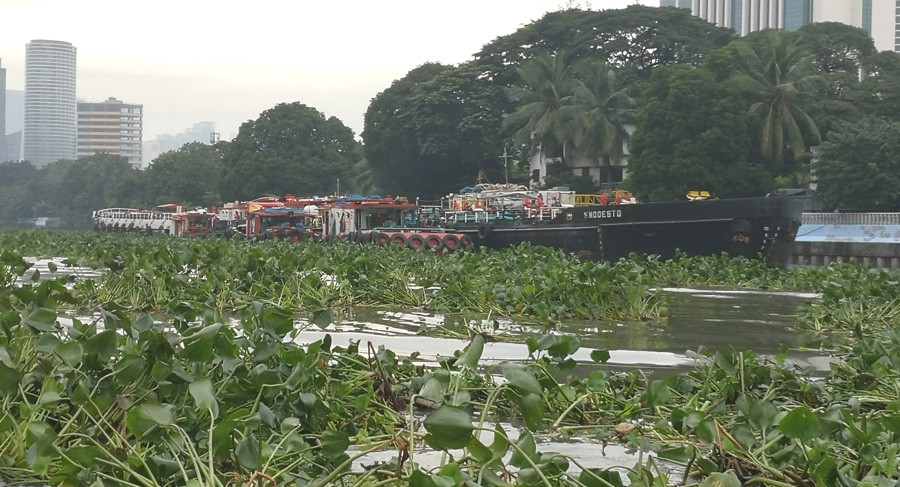water_hyacinth: (4, 292, 897, 485)
